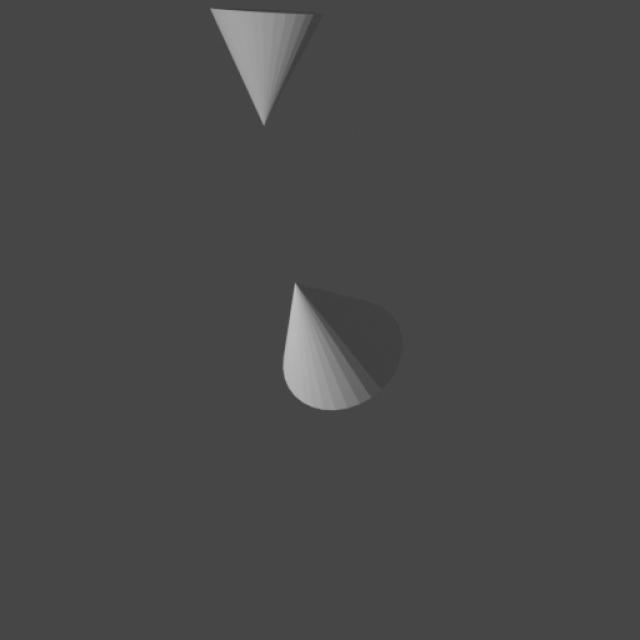Cone: (284, 282, 401, 410), (210, 8, 322, 125)
